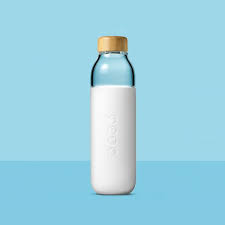bottle: (87, 33, 140, 198)
